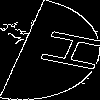H: (24, 25, 100, 73)
